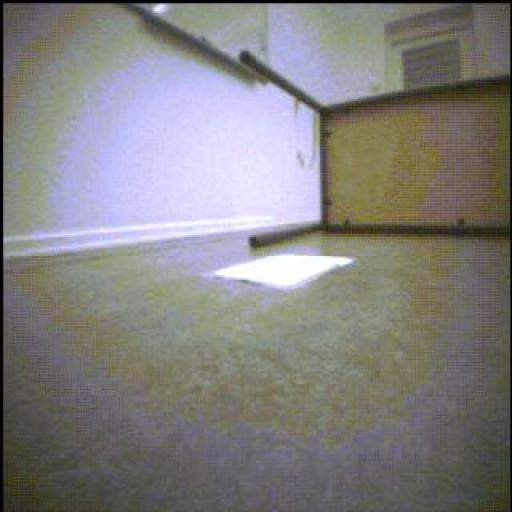Pad: (214, 256, 355, 291)
